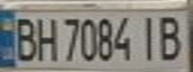0: (78, 14, 96, 62)
4: (112, 12, 136, 62)
7: (57, 14, 81, 62)
8: (96, 14, 115, 62)
B: (154, 11, 190, 62), (9, 14, 39, 62)
H: (33, 14, 60, 62)
I: (136, 11, 163, 62)
